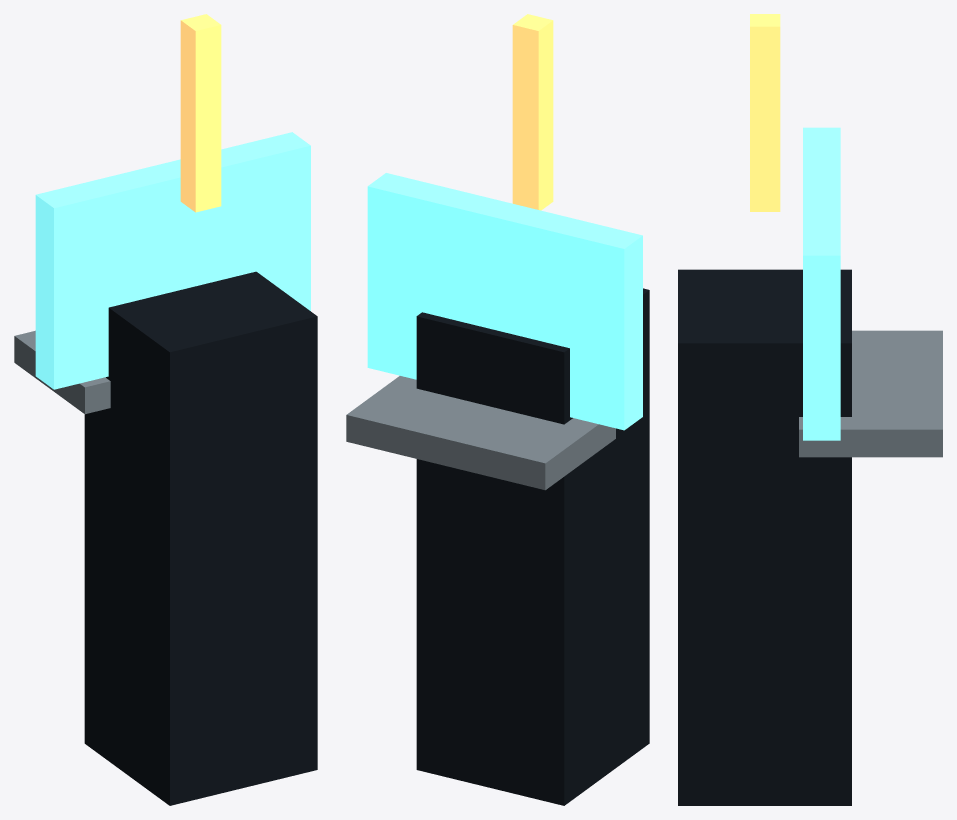
The model's file is np_z06_terminal_extraction.glb.
3 renders of one model, left to right at view 1: azimuth 30°, elevation 25°; view 2: azimuth 150°, elevation 25°; view 3: azimuth 270°, elevation 25°, orthographic.
Parts seen in each view (by area): view 1: Pied, Ecran, Antenne, Clavier; view 2: Pied, Ecran, Clavier, Antenne; view 3: Pied, Clavier, Ecran, Antenne.
Boxes of the visible parts, x1,y1,x2,y2 form: Pied: [84, 271, 317, 805]; Ecran: [35, 132, 310, 389]; Antenne: [180, 14, 221, 212]; Clavier: [14, 330, 110, 414]; Pied: [416, 288, 649, 805]; Ecran: [367, 173, 642, 430]; Clavier: [346, 376, 615, 490]; Antenne: [512, 14, 553, 210]; Pied: [678, 269, 851, 805]; Clavier: [799, 330, 942, 457]; Ecran: [803, 127, 840, 440]; Antenne: [750, 14, 780, 211].
Size of the model in its own units: 0.8 by 2.18 by 0.7.
